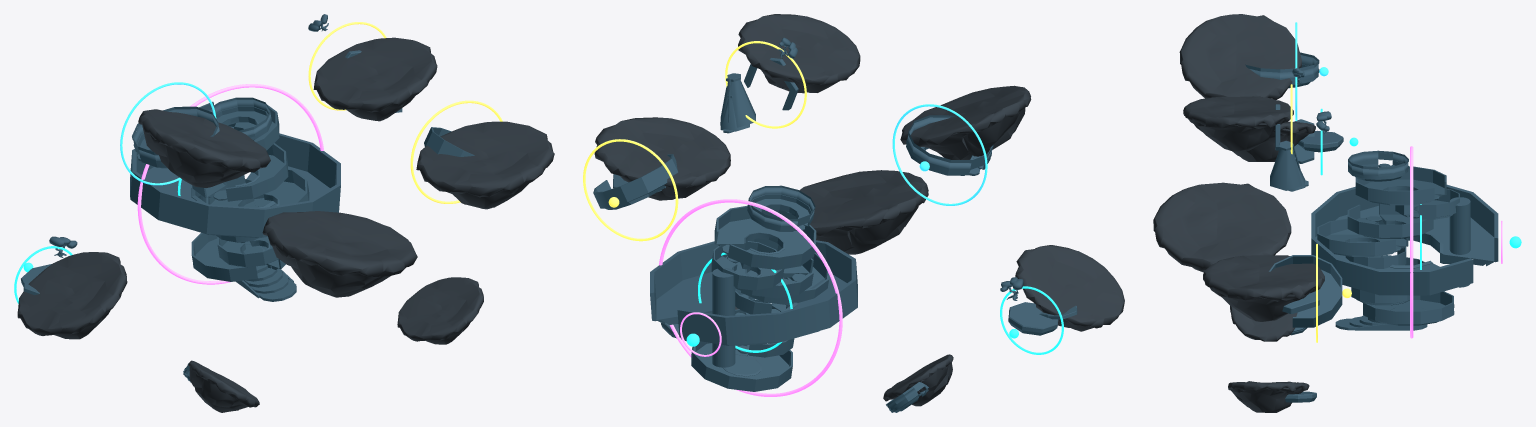
File: aero-harbor-scene.glb
The picture shows the model from 3 angles, left to right: view 1: azimuth 30°, elevation 25°; view 2: azimuth 150°, elevation 25°; view 3: azimuth 270°, elevation 25°; orthographic projection. The views are drawn at different scales.
Parts seen in each view (by area): view 1: AI_PM_station_core_Aero_Station_01_Art, AI_PM_island_core_Floating_Island_01_Art, AI_PM_station_core_magenta_ring_Aero_Station_PinkRing_Art, AI_PM_island_launch_Floating_Island_01_Art, AI_PM_island_bugs_Floating_Island_01_Art, AI_PM_island_requirements_Floating_Island_01_Art, AI_PM_island_versions_Floating_Island_01_Art, AI_PM_island_far_right_Floating_Island_01_Art, AI_PM_island_far_left_Floating_Island_01_Art, AI_PM_core_outer_magenta_runway, AI_PM_station_versions_Aero_Station_Ring_Art, AI_PM_station_launch_Aero_Station_YellowRing_Art (+2 smaller); view 2: AI_PM_station_core_Aero_Station_01_Art, AI_PM_station_core_magenta_ring_Aero_Station_PinkRing_Art, AI_PM_island_core_Floating_Island_01_Art, AI_PM_island_launch_Floating_Island_01_Art, AI_PM_island_bugs_Floating_Island_01_Art, AI_PM_island_requirements_Floating_Island_01_Art, AI_PM_island_versions_Floating_Island_01_Art, AI_PM_core_outer_magenta_runway, AI_PM_station_launch_Aero_Station_YellowRing_Art, AI_PM_station_versions_Aero_Station_Ring_Art, AI_PM_island_far_left_Floating_Island_01_Art, AI_PM_core_command_tower (+8 smaller); view 3: AI_PM_station_core_Aero_Station_01_Art, AI_PM_island_core_Floating_Island_01_Art, AI_PM_station_core_magenta_ring_Aero_Station_PinkRing_Art, AI_PM_island_versions_Floating_Island_01_Art, AI_PM_island_launch_Floating_Island_01_Art, AI_PM_island_bugs_Floating_Island_01_Art, AI_PM_station_launch_Aero_Station_YellowRing_Art, AI_PM_island_far_right_Floating_Island_01_Art, AI_PM_island_far_left_Floating_Island_01_Art, AI_PM_island_requirements_Floating_Island_01_Art, AI_PM_core_command_tower, AI_PM_station_versions_Aero_Station_Ring_Art (+5 smaller).
Part boxes in pixels (box(x1,y1,x2,y2)): AI_PM_station_core_Aero_Station_01_Art: box(191, 97, 309, 301); AI_PM_island_core_Floating_Island_01_Art: box(262, 211, 417, 297); AI_PM_station_core_magenta_ring_Aero_Station_PinkRing_Art: box(130, 133, 340, 238); AI_PM_island_launch_Floating_Island_01_Art: box(416, 121, 554, 209); AI_PM_island_bugs_Floating_Island_01_Art: box(313, 37, 437, 121); AI_PM_island_requirements_Floating_Island_01_Art: box(17, 252, 127, 339); AI_PM_island_versions_Floating_Island_01_Art: box(138, 109, 270, 187); AI_PM_island_far_right_Floating_Island_01_Art: box(397, 277, 483, 344); AI_PM_island_far_left_Floating_Island_01_Art: box(188, 360, 259, 412); AI_PM_core_outer_magenta_runway: box(137, 84, 323, 284); AI_PM_station_versions_Aero_Station_Ring_Art: box(132, 106, 219, 168); AI_PM_station_launch_Aero_Station_YellowRing_Art: box(424, 127, 474, 156); AI_PM_station_core_Aero_Station_01_Art: box(691, 185, 829, 391); AI_PM_station_core_magenta_ring_Aero_Station_PinkRing_Art: box(650, 240, 857, 345); AI_PM_island_core_Floating_Island_01_Art: box(799, 170, 928, 254); AI_PM_island_launch_Floating_Island_01_Art: box(594, 117, 730, 200); AI_PM_island_bugs_Floating_Island_01_Art: box(738, 14, 860, 93); AI_PM_island_requirements_Floating_Island_01_Art: box(1015, 245, 1124, 331); AI_PM_island_versions_Floating_Island_01_Art: box(900, 85, 1031, 159); AI_PM_core_outer_magenta_runway: box(659, 199, 842, 396); AI_PM_station_launch_Aero_Station_YellowRing_Art: box(593, 154, 677, 209); AI_PM_station_versions_Aero_Station_Ring_Art: box(906, 115, 993, 175); AI_PM_island_far_left_Floating_Island_01_Art: box(883, 354, 953, 406); AI_PM_core_command_tower: box(712, 268, 735, 367); AI_PM_station_core_Aero_Station_01_Art: box(1317, 150, 1459, 330); AI_PM_island_core_Floating_Island_01_Art: box(1153, 182, 1291, 272); AI_PM_station_core_magenta_ring_Aero_Station_PinkRing_Art: box(1311, 184, 1498, 295); AI_PM_island_versions_Floating_Island_01_Art: box(1179, 14, 1301, 99); AI_PM_island_launch_Floating_Island_01_Art: box(1203, 255, 1324, 321); AI_PM_island_bugs_Floating_Island_01_Art: box(1183, 96, 1293, 151); AI_PM_station_launch_Aero_Station_YellowRing_Art: box(1269, 255, 1342, 327); AI_PM_island_far_right_Floating_Island_01_Art: box(1228, 381, 1309, 412); AI_PM_island_far_left_Floating_Island_01_Art: box(1230, 305, 1297, 341); AI_PM_island_requirements_Floating_Island_01_Art: box(1232, 121, 1315, 161); AI_PM_core_command_tower: box(1449, 197, 1470, 287); AI_PM_station_versions_Aero_Station_Ring_Art: box(1245, 52, 1319, 88).
Size of the model in its own units: 4.65 by 3.03 by 3.19.
